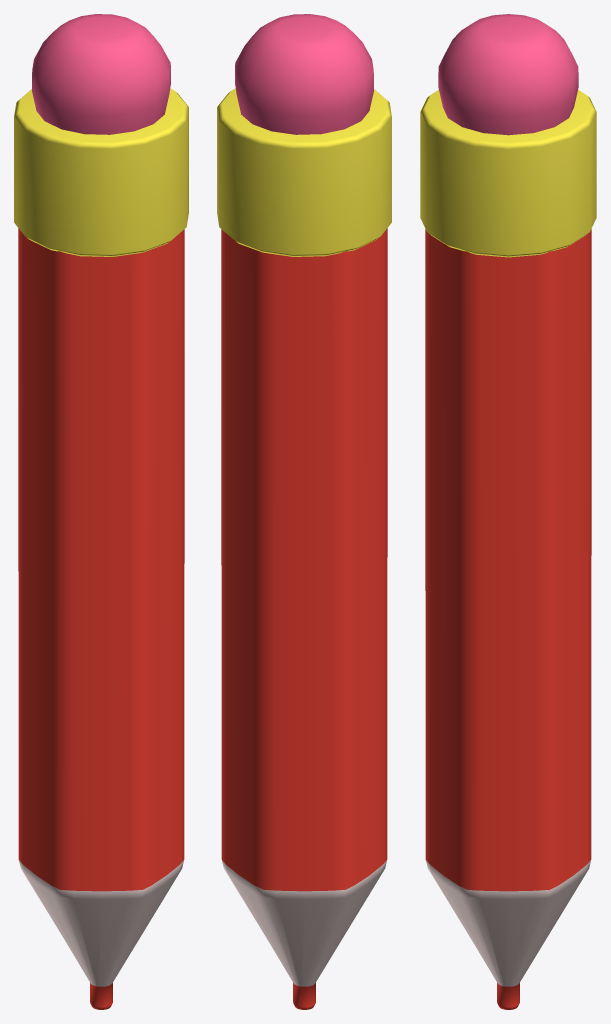
The model's file is Public_2_Pencil_1.glb.
3 renders of one model, left to right at view 1: azimuth 30°, elevation 25°; view 2: azimuth 150°, elevation 25°; view 3: azimuth 270°, elevation 25°, orthographic.
Visible parts, largest first — view 1: Public_2_Pencil_1; view 2: Public_2_Pencil_1; view 3: Public_2_Pencil_1.
Boxes of the visible parts, x1=… form: Public_2_Pencil_1: x1=14, y1=14, x2=188, y2=1009; Public_2_Pencil_1: x1=217, y1=14, x2=391, y2=1009; Public_2_Pencil_1: x1=420, y1=14, x2=596, y2=1009.
Bounding box in the file's own units: 0.2801 × 1.72 × 0.2801.
1 material, 1 textured.
